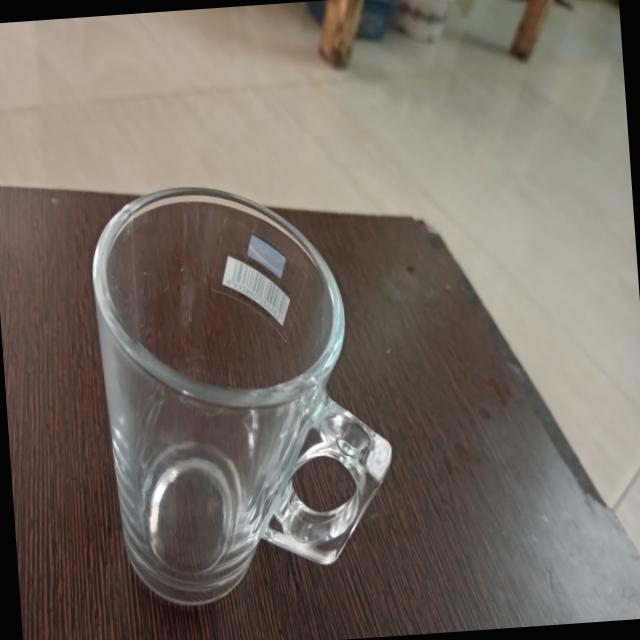glass-VX4N: (76, 172, 404, 612)
